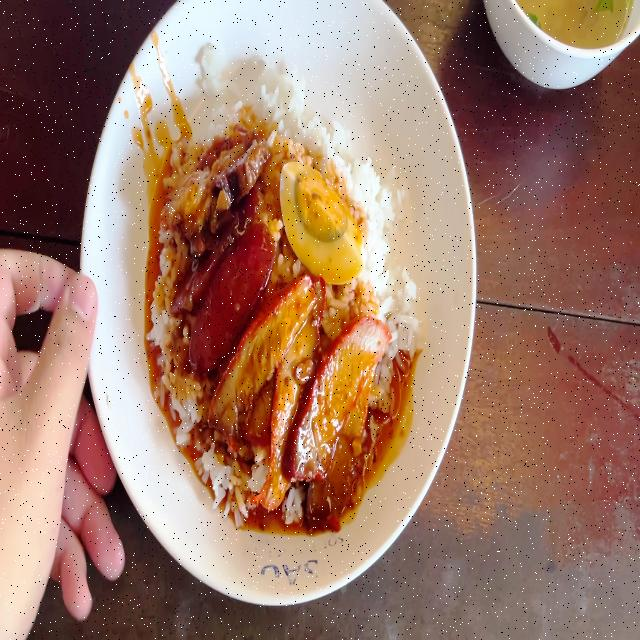boiled_egg: (280, 166, 363, 280)
chainese_sausage: (187, 207, 271, 354)
crispy_pork: (176, 141, 263, 232)
red_pork: (240, 321, 384, 484)
red_pork_and_crispy_pork: (168, 84, 406, 503)
rice: (246, 73, 329, 156), (367, 230, 416, 322)
